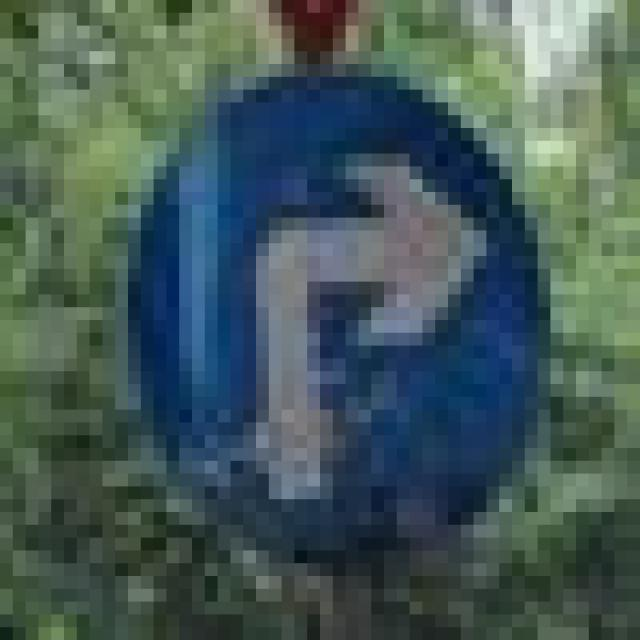railway_crossing: (115, 52, 538, 550)
